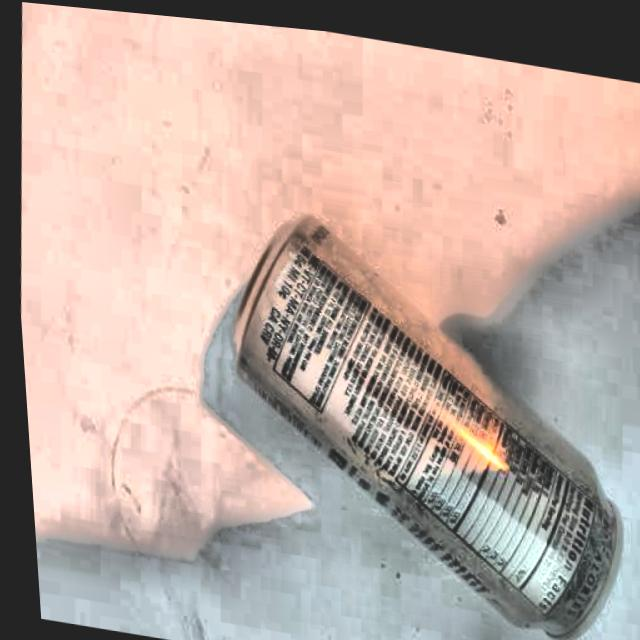Cans: (152, 148, 640, 640)
